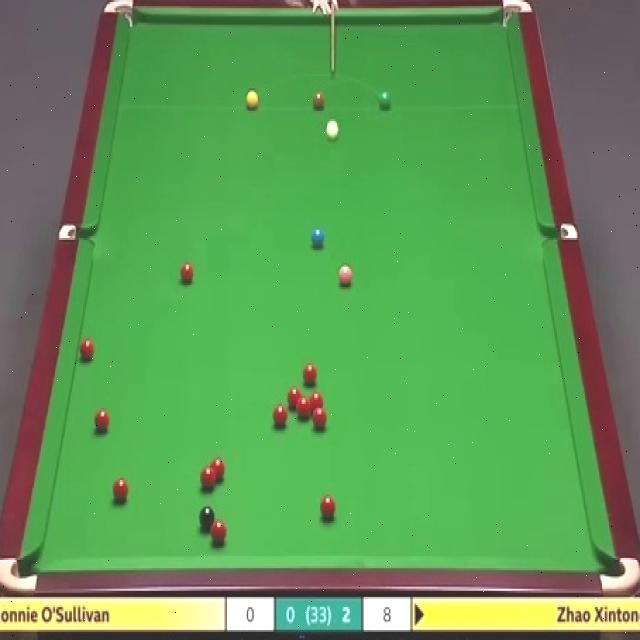black-ball: (199, 505, 217, 529)
blue-ball: (311, 226, 325, 252)
brown-ball: (312, 90, 325, 110)
green-ball: (377, 91, 391, 109)
pink-ball: (338, 267, 354, 289)
red-ball: (318, 492, 337, 522), (109, 476, 128, 503), (78, 338, 97, 364), (286, 384, 304, 410), (92, 406, 109, 432), (200, 465, 217, 490), (301, 363, 320, 385), (309, 393, 325, 416), (212, 458, 228, 481), (212, 520, 226, 546), (296, 398, 312, 419), (273, 402, 287, 426), (312, 407, 326, 428), (180, 264, 194, 283)
white-ball: (325, 120, 341, 140)
yellow-ball: (245, 90, 259, 110)
